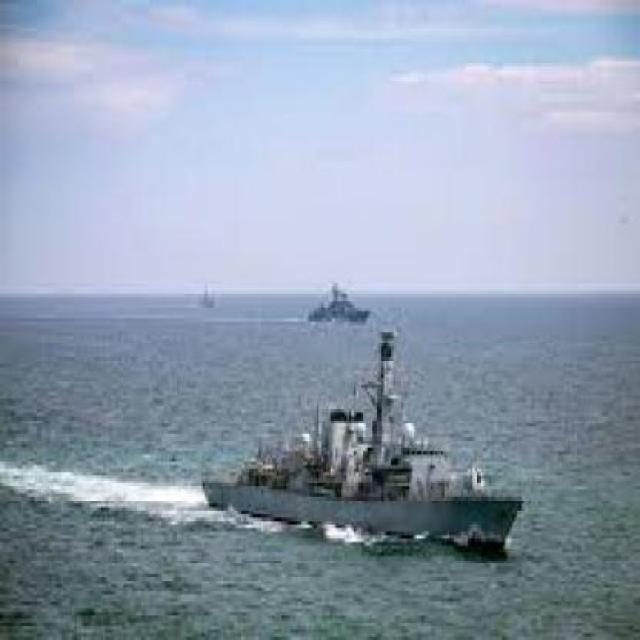warship2: (162, 323, 553, 557)
